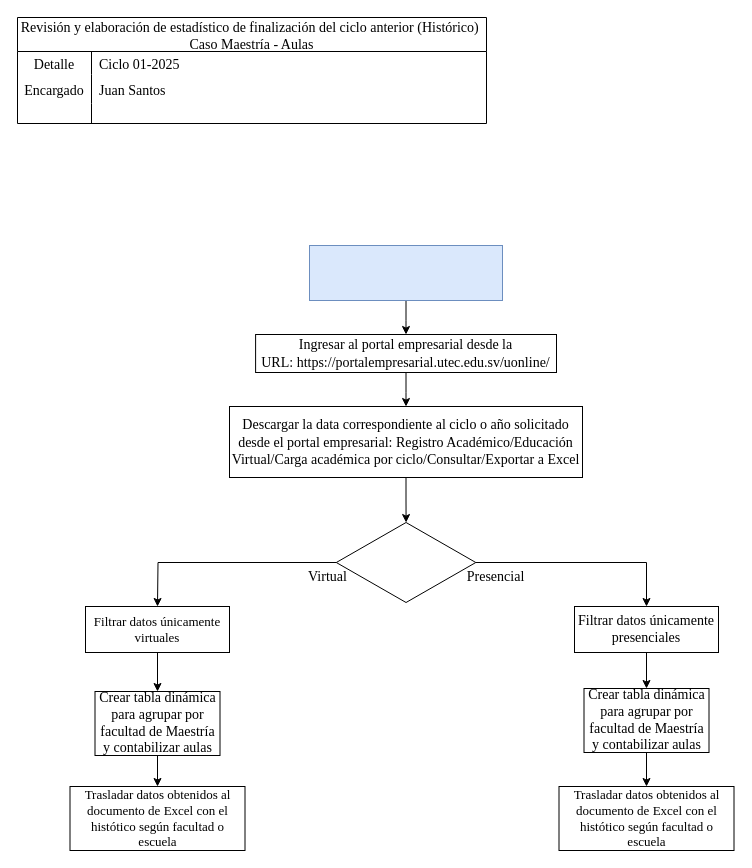
Image size: 752x868. Some labels were removed from this diagram. The shapes that lost their labels are listed below. From the top down, each one's box as (x1, y1, x2, y2) in pixels, then its label:
(308, 244, 502, 300): Revisión y elaboración de estadístico de finalización del ciclo anterior
(335, 522, 476, 602): ¿Presencial o virtual?
